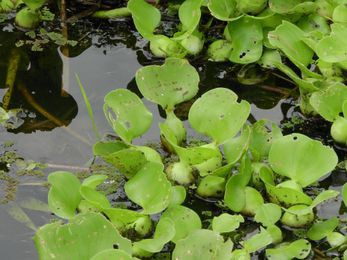water_hyacinth: (33, 0, 347, 259)
